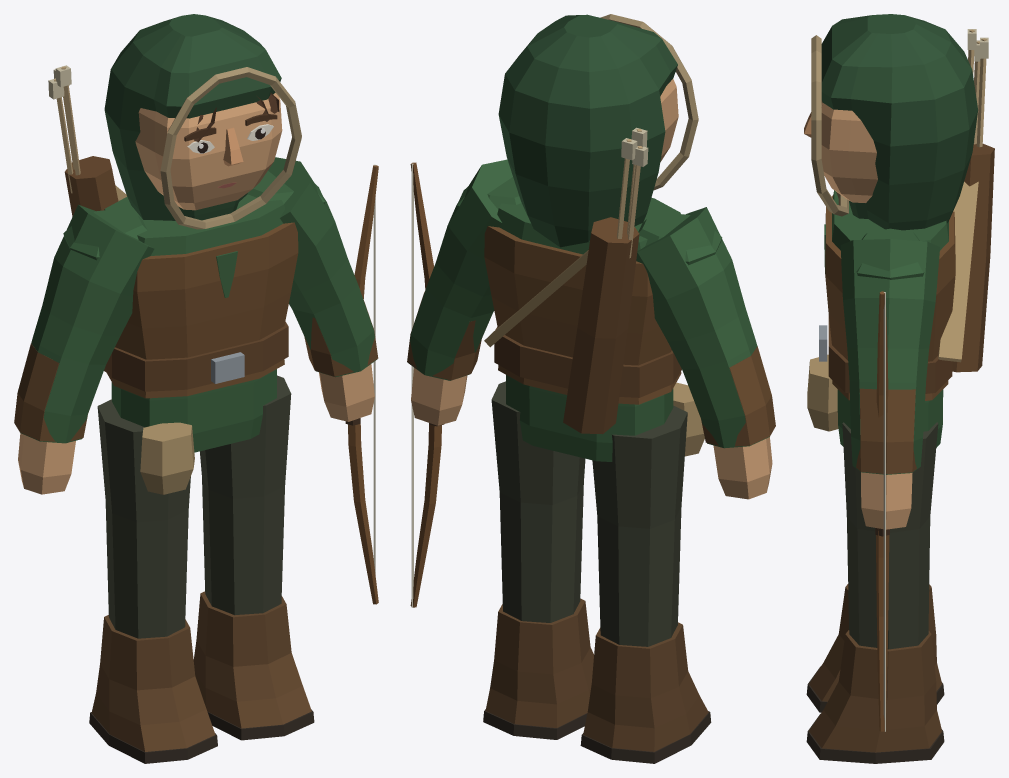
Rendered from ranger-common.obj.
3 renders of one model, left to right at view 1: azimuth 30°, elevation 25°; view 2: azimuth 150°, elevation 25°; view 3: azimuth 270°, elevation 25°, orthographic.
Parts seen in each view (by area): view 1: bacaklar, kollar, cizmeler, yelek, kapuson, govde, kafa, kemer, eller, kapuson-kenari, bileklikler, kese (+7 smaller); view 2: bacaklar, kapuson, kollar, cizmeler, yelek, sadak, govde, eller, kemer, bileklikler, yay, cizme-tabani (+7 smaller); view 3: kapuson, kollar, cizmeler, bacaklar, sadak, kafa, bileklikler, yelek, sadak-kayisi, govde, yay, eller (+7 smaller).
Part boxes in pixels (box(x1,y1,x2,y2)): bacaklar: box(97, 375, 291, 638); kollar: box(20, 157, 377, 443); cizmeler: box(91, 591, 311, 751); yelek: box(104, 222, 298, 398); kapuson: box(104, 14, 281, 220); govde: box(104, 194, 284, 452); kafa: box(135, 92, 282, 210); kemer: box(105, 321, 288, 391); eller: box(18, 364, 374, 494); kapuson-kenari: box(160, 67, 301, 229); bileklikler: box(14, 288, 378, 441); kese: box(140, 422, 194, 494); bacaklar: box(491, 381, 687, 646); kapuson: box(498, 14, 677, 247); kollar: box(407, 159, 769, 448); cizmeler: box(485, 598, 708, 751); yelek: box(484, 226, 681, 404); sadak: box(563, 217, 639, 434); govde: box(497, 197, 680, 461); eller: box(411, 367, 772, 499); kemer: box(494, 327, 681, 397); bileklikler: box(407, 291, 775, 446); yay: box(410, 162, 441, 607); cizme-tabani: box(483, 709, 711, 763); kapuson: box(821, 14, 977, 230); kollar: box(840, 228, 940, 474); cizmeler: box(809, 584, 941, 752); bacaklar: box(842, 422, 938, 649); sadak: box(952, 143, 994, 372); kafa: box(821, 102, 877, 202); bileklikler: box(856, 388, 916, 474); yelek: box(825, 195, 955, 400); sadak-kayisi: box(938, 181, 978, 362); govde: box(832, 190, 948, 447); yay: box(876, 291, 889, 731); eller: box(861, 472, 912, 529).
Size of the model in its own units: 22.16 by 41.2 by 10.26.
